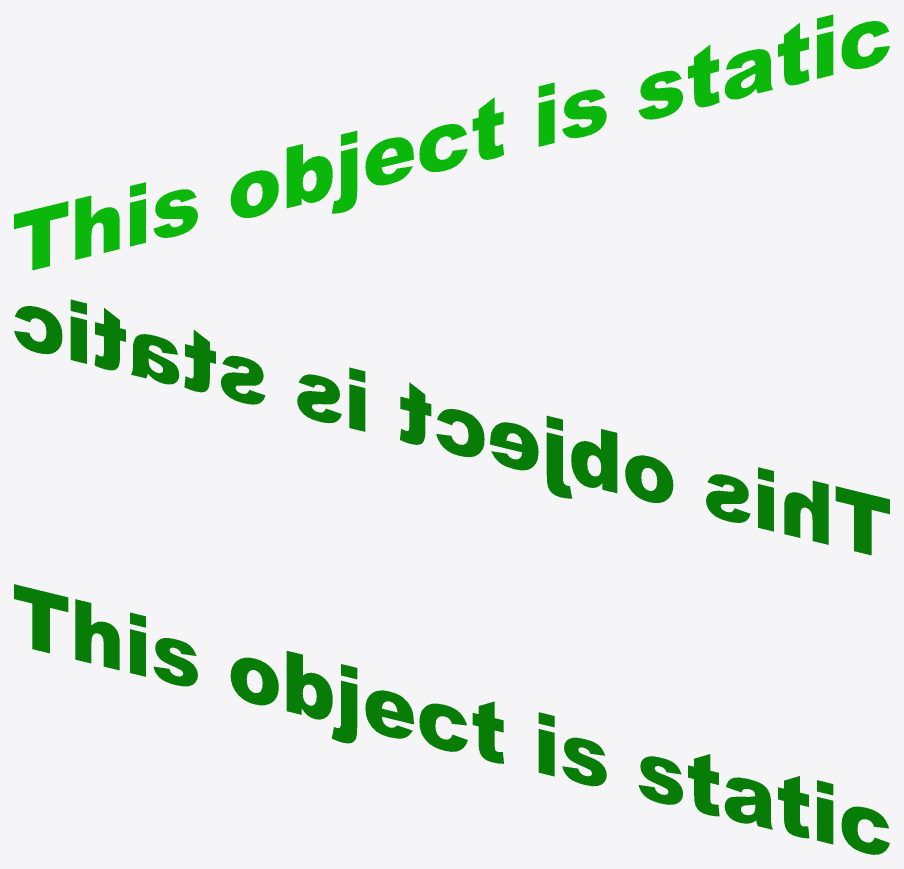
File: tutorial_1.dae
The picture shows the model from 3 angles, top to bottom: view 1: azimuth 30°, elevation 25°; view 2: azimuth 150°, elevation 25°; view 3: azimuth 330°, elevation 25°; orthographic projection.
Parts seen in each view (by area): view 1: This_object_is_s (×18); view 2: This_object_is_s (×18); view 3: This_object_is_s (×18).
Boxes of the visible parts, x1=… form: This_object_is_s (×18): x1=14, y1=21, x2=889, y2=270; This_object_is_s (×18): x1=14, y1=306, x2=889, y2=555; This_object_is_s (×18): x1=14, y1=584, x2=889, y2=854.
Bounding box in the file's own units: 2979 × 2.83e-14 × 255.
